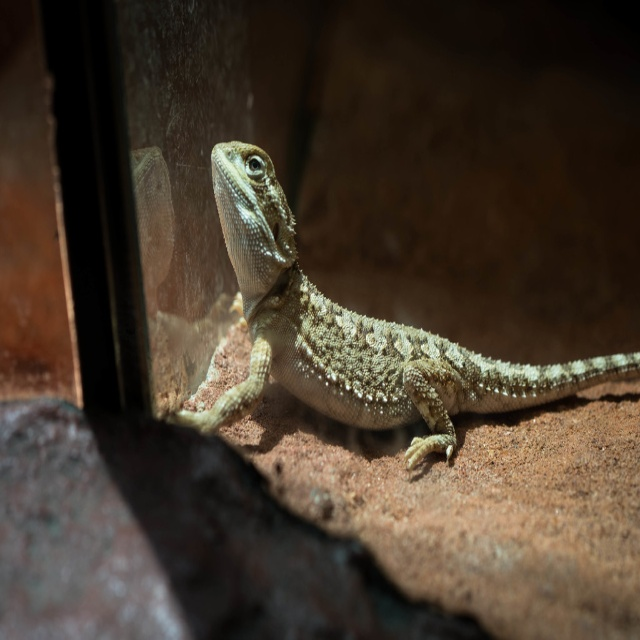Lizard: (167, 140, 640, 472)
